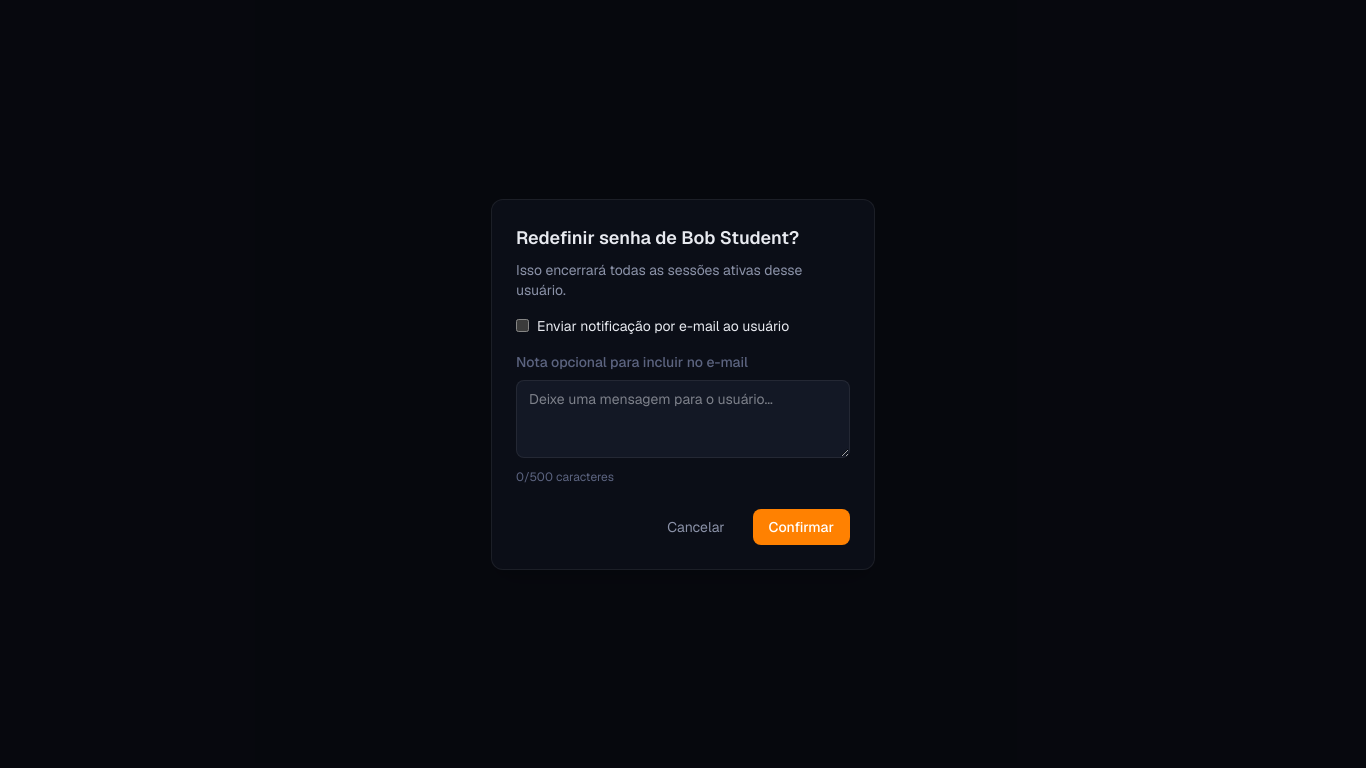
ResetPasswordModal › error handling › shows error modal on API failure
Click the button "Confirmar" at x=801, y=526, box [753,508,850,544]
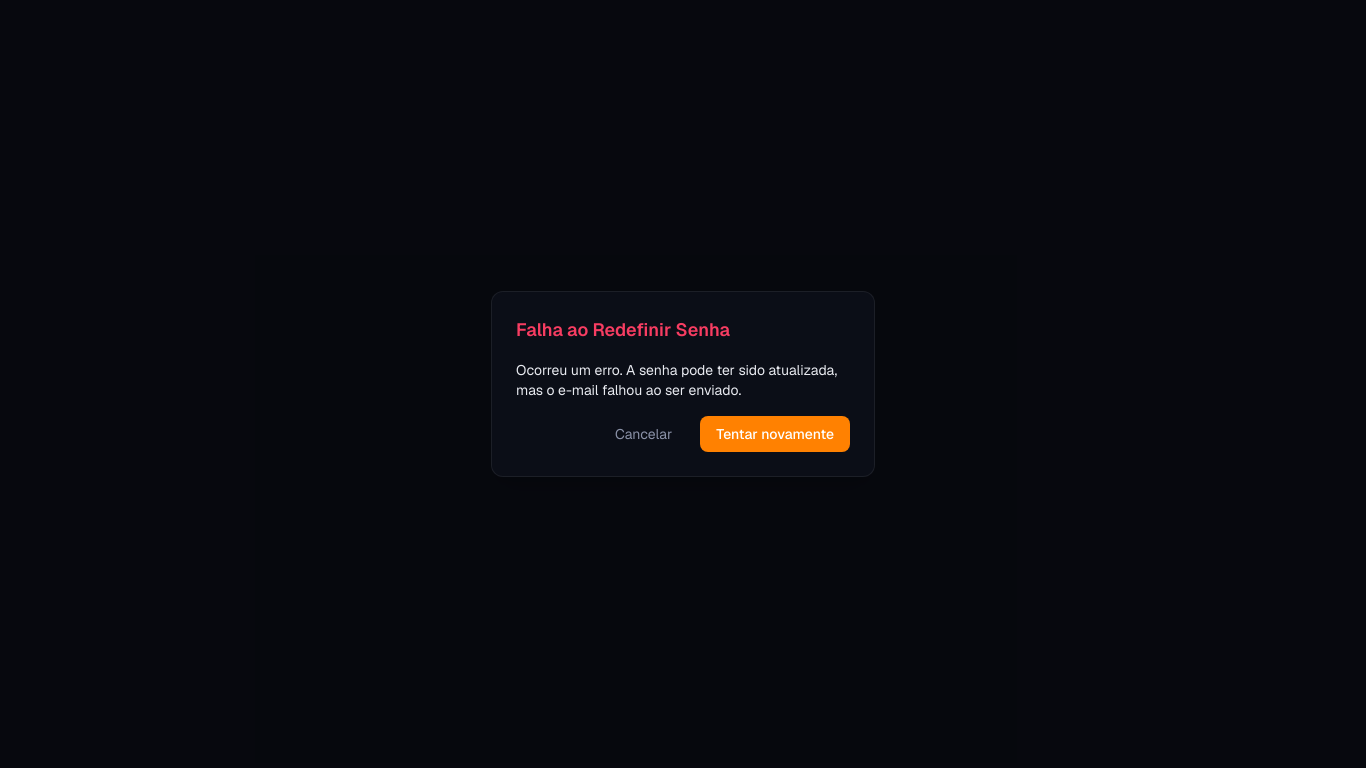
Now the heading "Falha ao Redefinir Senha" is shown, box [516,318,730,341]
